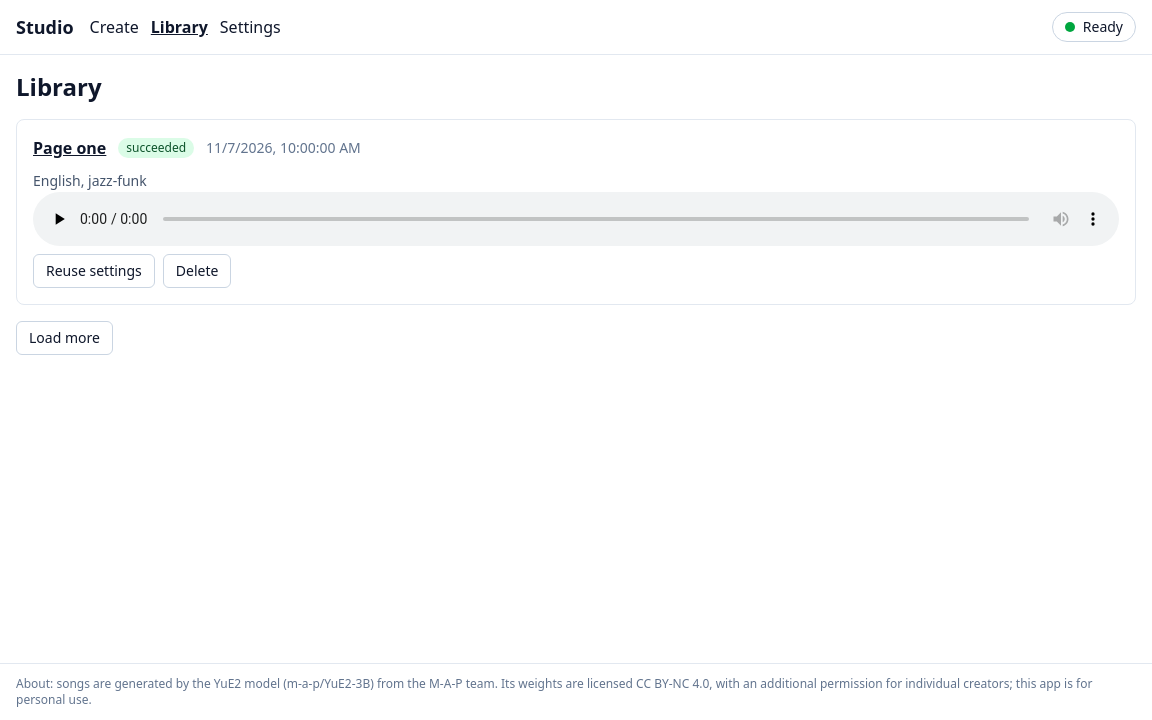
Test: Library (U-4) › Load more fetches the next page with the cursor
Check: the link "Page one" is shown, box [33,136,106,160]
Click the button "Load more" at [64, 338], box [16,321,113,355]
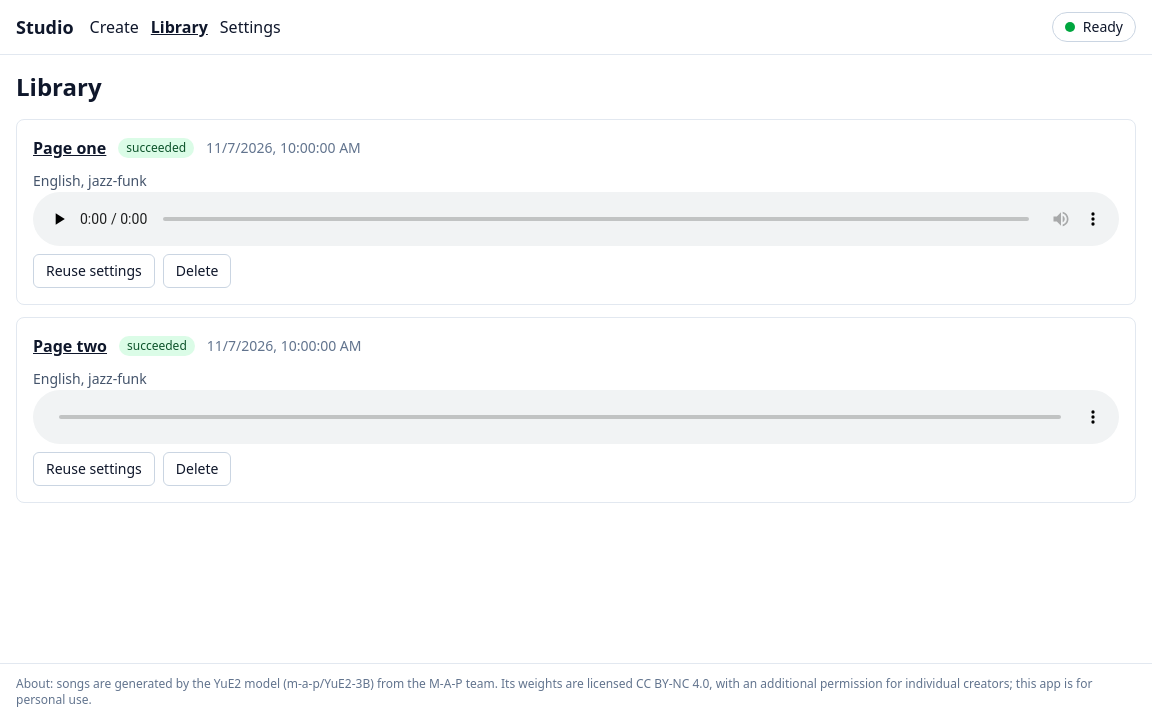
Check: the link "Page two" is shown, box [33,334,107,358]
Check: the button "Load more" is gone
